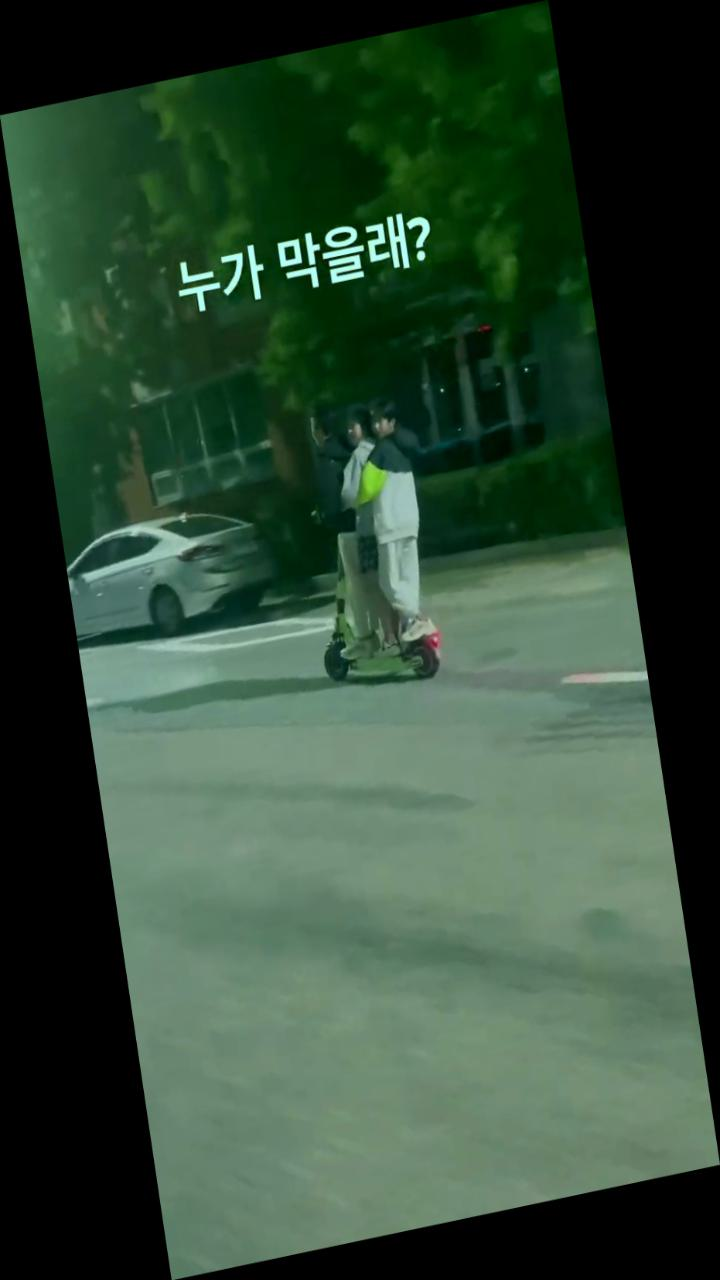multiple: (279, 379, 458, 701)
